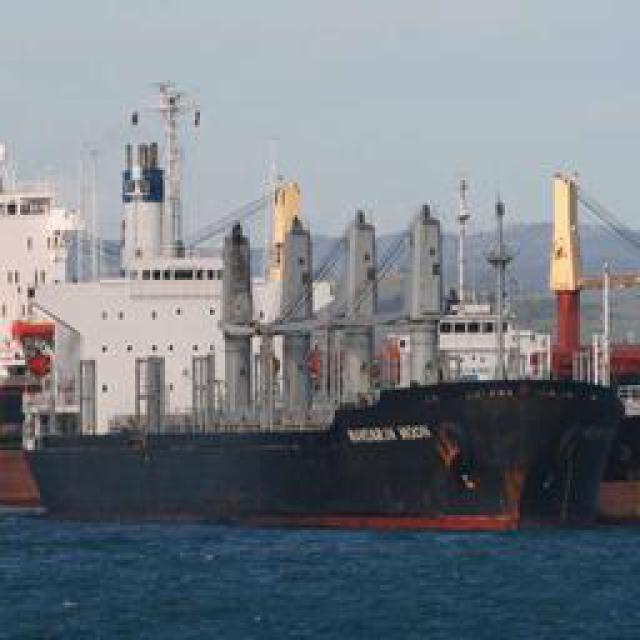Ship: (12, 78, 640, 543)
